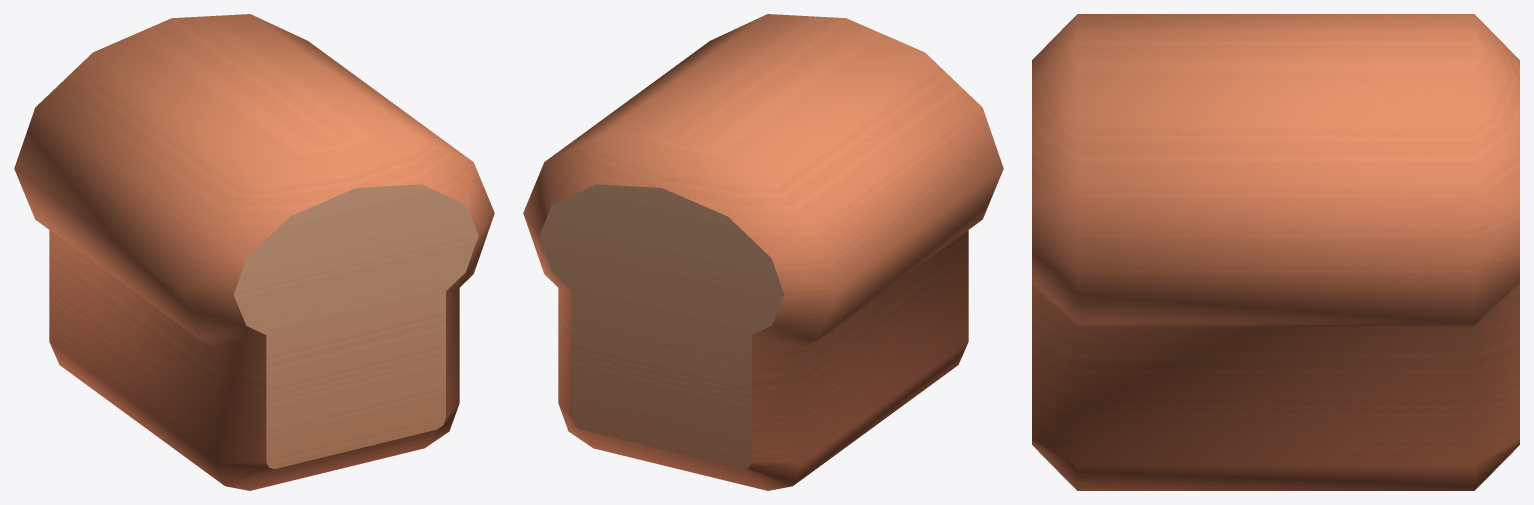
Rendered from bread_lev2.glb.
The picture shows the model from 3 angles, left to right: view 1: azimuth 30°, elevation 25°; view 2: azimuth 150°, elevation 25°; view 3: azimuth 270°, elevation 25°; orthographic projection. The views are drawn at different scales.
Parts seen in each view (by area): view 1: bread_lev2; view 2: bread_lev2; view 3: bread_lev2.
Part boxes in pixels (x1,y1,x2,y2): bread_lev2: [14, 14, 494, 490]; bread_lev2: [523, 14, 1003, 490]; bread_lev2: [1032, 14, 1519, 490].
Size of the model in its own units: 0.2198 by 0.2202 by 0.2456.
Materials: 1 (1 with a texture image).
